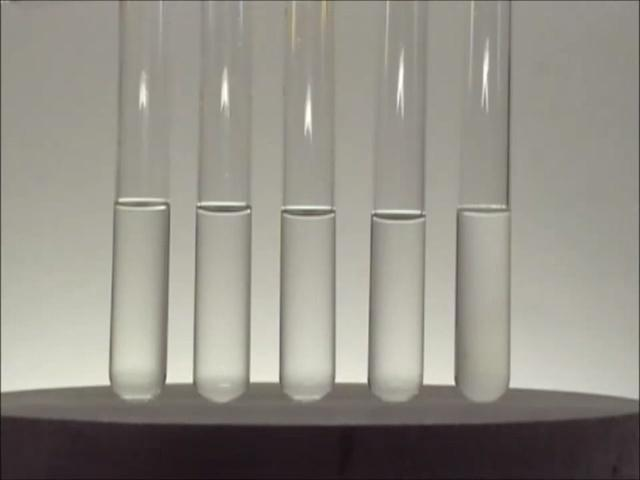Test tube: (367, 1, 424, 404), (277, 0, 334, 400), (456, 4, 507, 407), (114, 2, 164, 406), (199, 4, 248, 403)
